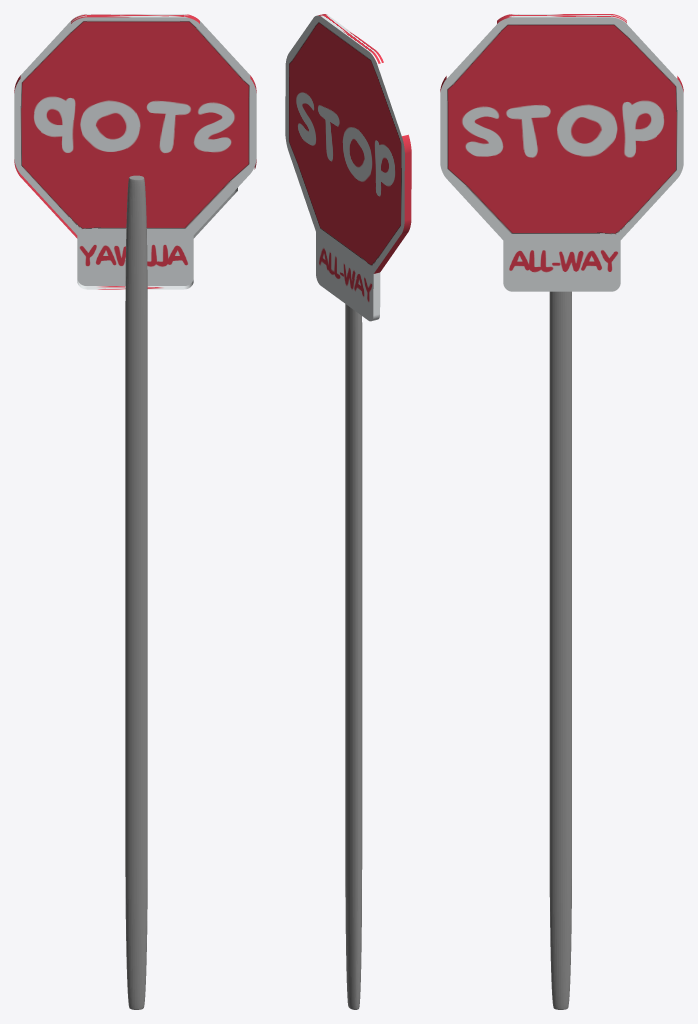
Rendered from stop sign.fbx.
3 views of the same model, side by side, from view 1: azimuth 90°, elevation 25°; view 2: azimuth 210°, elevation 25°; view 3: azimuth 270°, elevation 25° (orthographic). The views are drawn at different scales.
Visible parts, largest first — view 1: Cube, Cylinder; view 2: Cube, Cylinder; view 3: Cube, Cylinder.
Boxes of the visible parts, x1,y1,x2,y2 form: Cube: [14, 14, 256, 289]; Cylinder: [125, 175, 147, 1009]; Cube: [285, 14, 411, 321]; Cylinder: [345, 304, 362, 1009]; Cube: [440, 14, 683, 291]; Cylinder: [549, 291, 571, 1009].
Bounding box in the file's own units: 25.25 × 1466 × 325.
